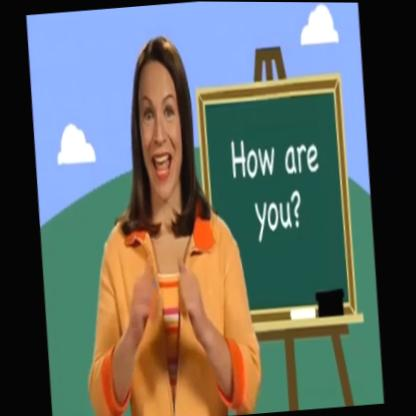HowAreYou: (118, 228, 219, 379)
